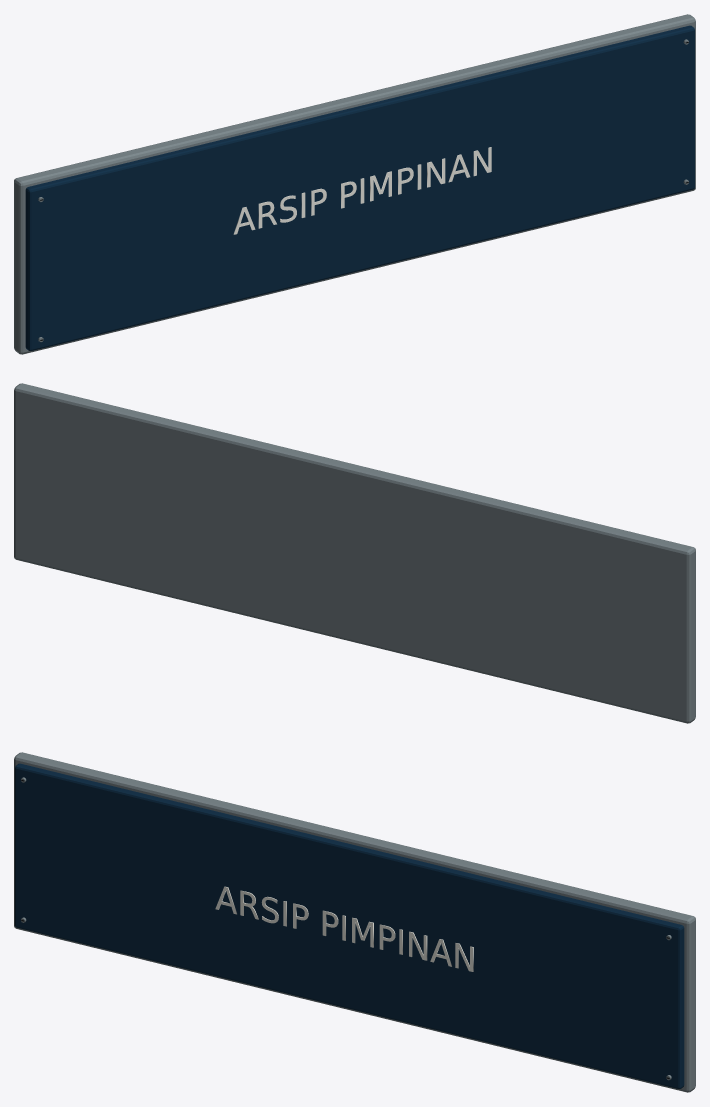
The model's file is OAA_Papan_Ruang_Arsip_Pimpinan.fbx.
3 renders of one model, top to bottom at view 1: azimuth 30°, elevation 25°; view 2: azimuth 150°, elevation 25°; view 3: azimuth 330°, elevation 25°, orthographic.
Visible parts, largest first — view 1: Body; view 2: Body; view 3: Body.
Part boxes in pixels (x1,y1,x2,y2): Body: (14,14,695,354); Body: (14,383,695,723); Body: (14,752,695,1092).
Bounding box in the file's own units: 0.9 × 0.22 × 0.0312.
